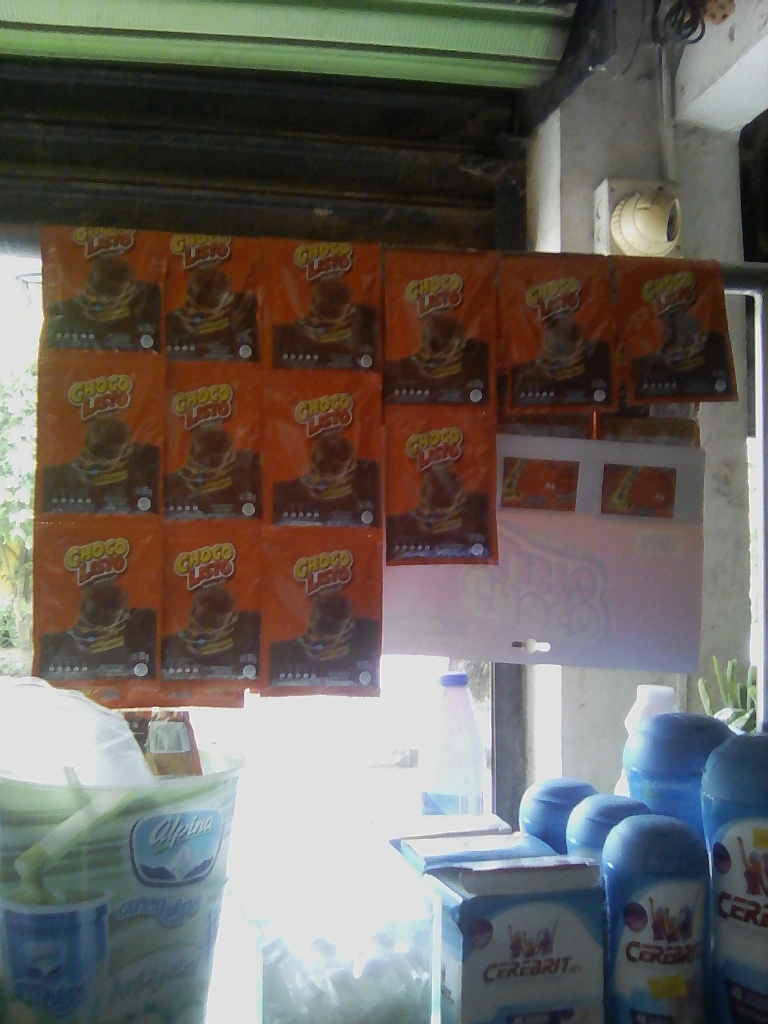COL0170103SOB02000: (42, 226, 164, 354)
